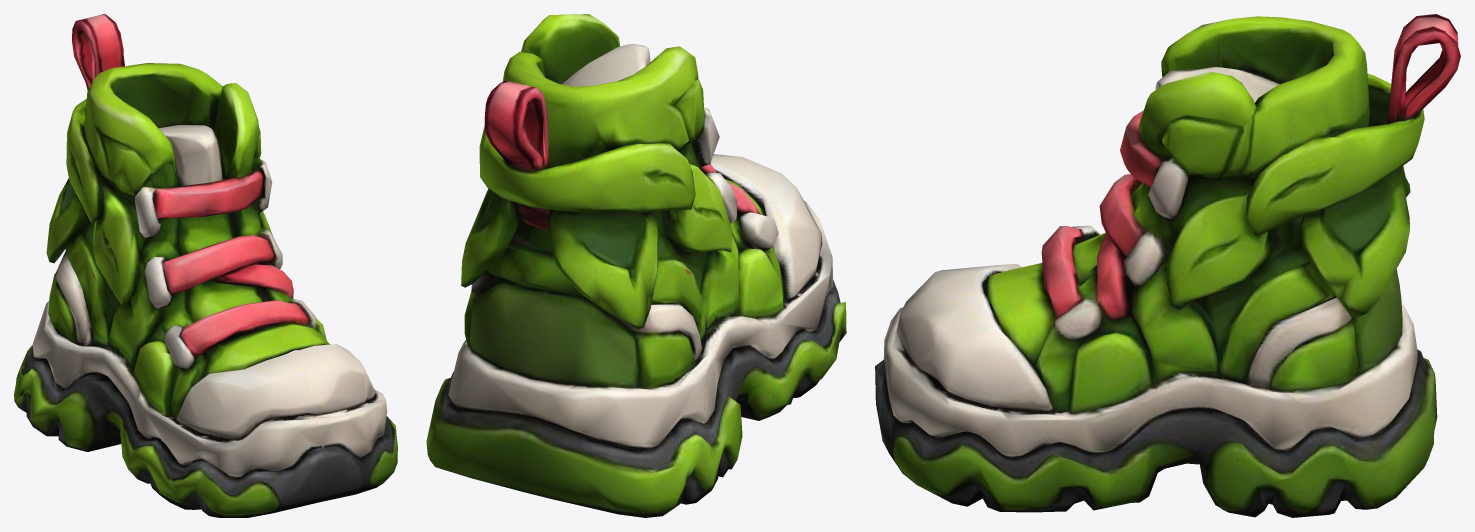
Rendered from GE14_moss_boots.glb.
3 renders of one model, left to right at view 1: azimuth 30°, elevation 25°; view 2: azimuth 150°, elevation 25°; view 3: azimuth 270°, elevation 25°, orthographic. The views are drawn at different scales.
Parts seen in each view (by area): view 1: tripo_node_3b3abfd4-6f91-4eac-a059-0fdd992b8d14; view 2: tripo_node_3b3abfd4-6f91-4eac-a059-0fdd992b8d14; view 3: tripo_node_3b3abfd4-6f91-4eac-a059-0fdd992b8d14.
Part boxes in pixels (x1,y1,x2,y2): tripo_node_3b3abfd4-6f91-4eac-a059-0fdd992b8d14: [14, 14, 397, 517]; tripo_node_3b3abfd4-6f91-4eac-a059-0fdd992b8d14: [426, 14, 846, 517]; tripo_node_3b3abfd4-6f91-4eac-a059-0fdd992b8d14: [875, 14, 1460, 517].
Size of the model in its own units: 0.5642 by 0.8282 by 0.9992.
1 material, 1 textured.
